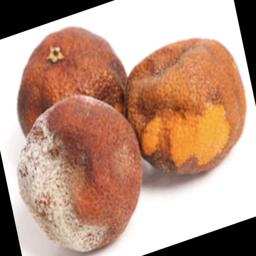Orange Rotten: (6, 10, 256, 256)
